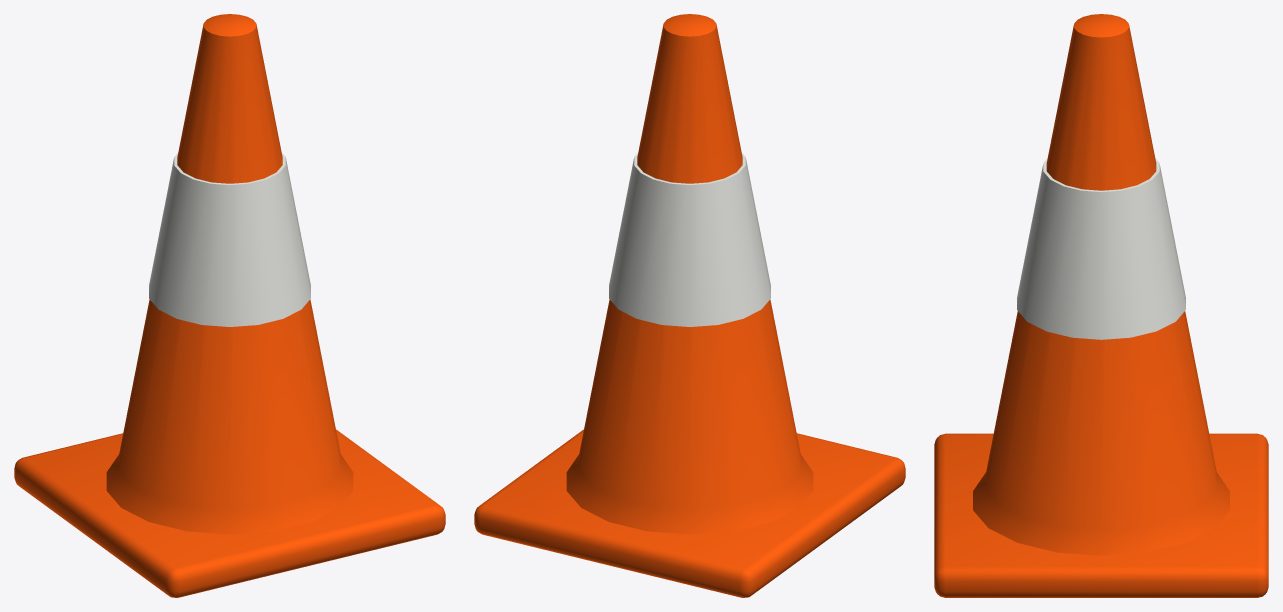
Rendered from plant.traffic.cone.glb.
3 renders of one model, left to right at view 1: azimuth 30°, elevation 25°; view 2: azimuth 150°, elevation 25°; view 3: azimuth 270°, elevation 25°, orthographic. The views are drawn at different scales.
Visible parts, largest first — view 1: main__hivis_orange, main__paint_white; view 2: main__hivis_orange, main__paint_white; view 3: main__hivis_orange, main__paint_white.
Boxes of the visible parts, x1=… form: main__hivis_orange: x1=14, y1=14, x2=445, y2=597; main__paint_white: x1=149, y1=152, x2=310, y2=326; main__hivis_orange: x1=474, y1=14, x2=905, y2=597; main__paint_white: x1=609, y1=152, x2=770, y2=326; main__hivis_orange: x1=934, y1=14, x2=1268, y2=597; main__paint_white: x1=1017, y1=158, x2=1185, y2=339.
Bounding box in the file's own units: 0.3 × 0.504 × 0.3.
